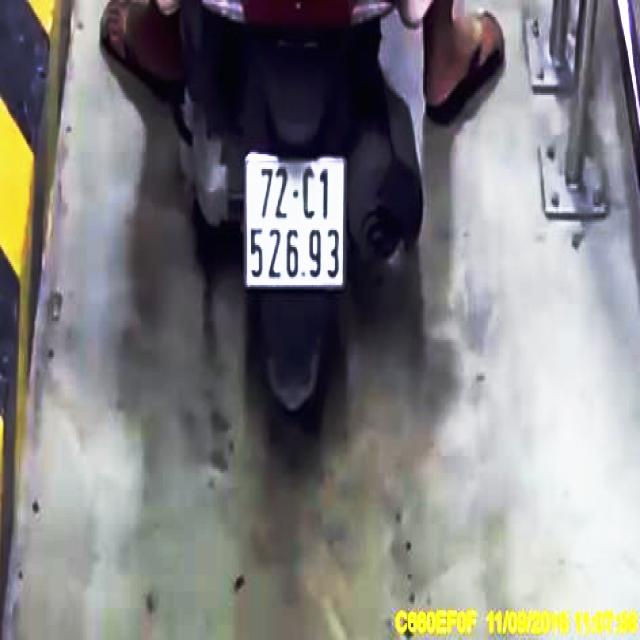license_plate: (247, 155, 345, 285)
